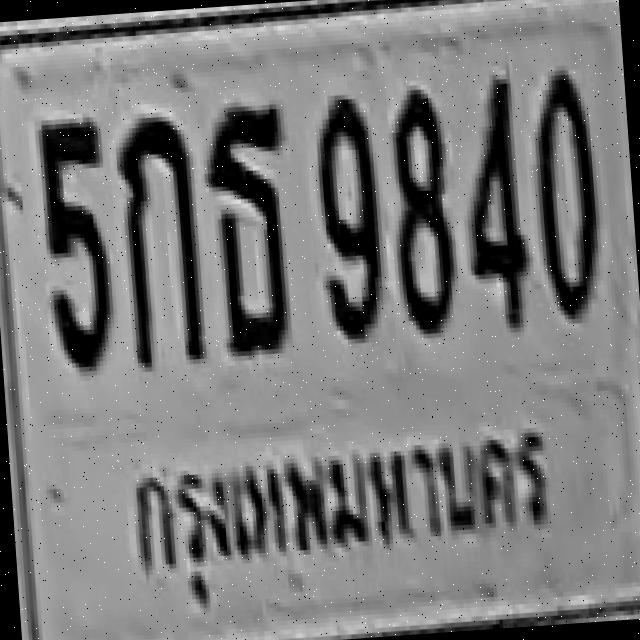0: (528, 64, 604, 320)
10GorGai: (114, 110, 204, 368)
33ThorThong: (201, 99, 298, 352)
4: (457, 73, 530, 330)
5: (34, 116, 114, 374)
8: (385, 85, 458, 337)
9: (310, 92, 386, 340)
Bangkok: (115, 422, 559, 609)
